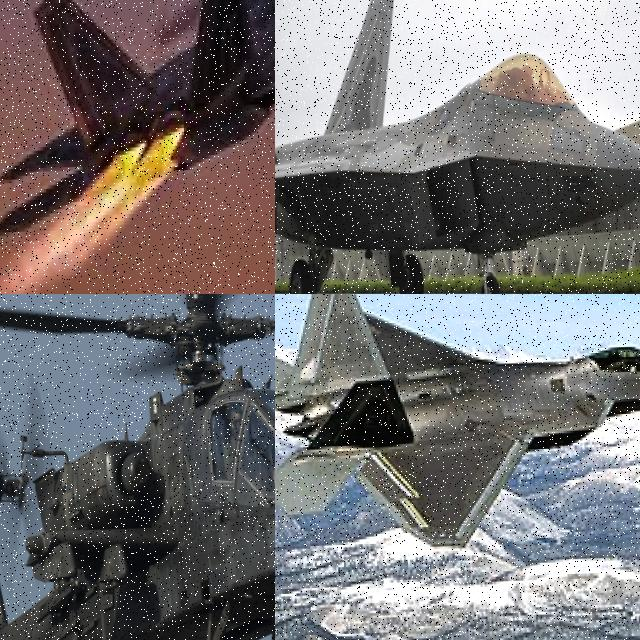Apache: (0, 294, 275, 640)
F22: (275, 0, 640, 294), (275, 294, 640, 543), (0, 0, 275, 235)
